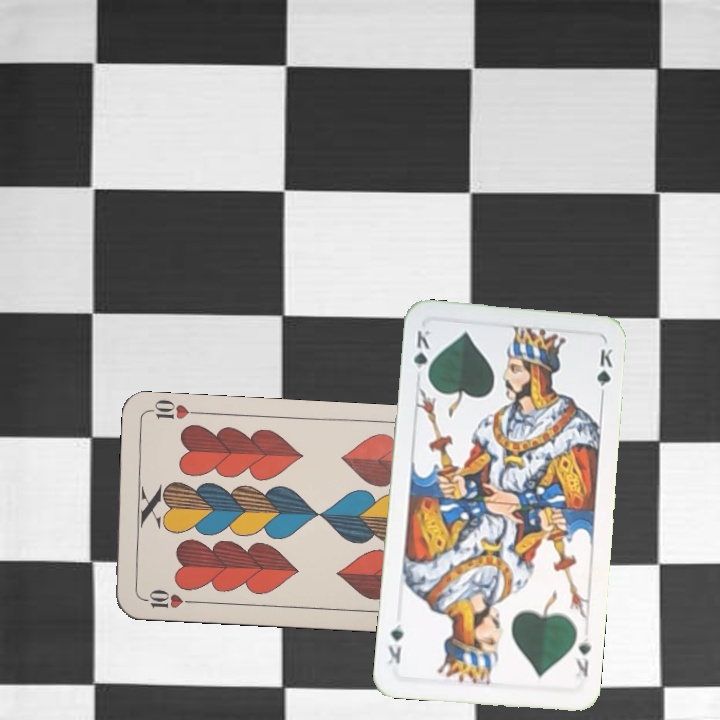GK: (409, 324, 433, 383), (570, 634, 594, 686)
H10: (137, 585, 196, 611)
